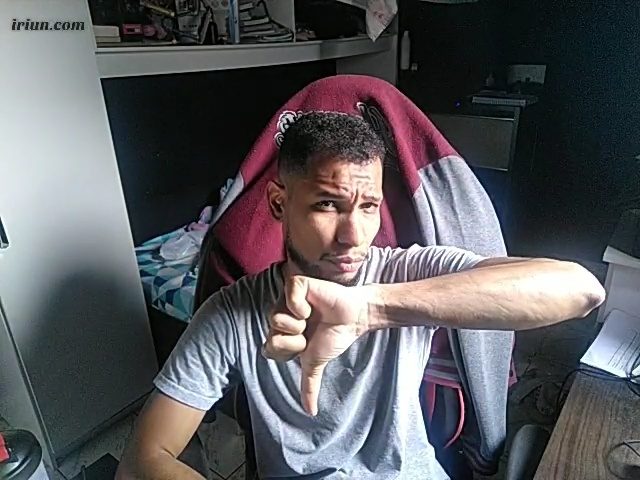não: (253, 268, 365, 419)
